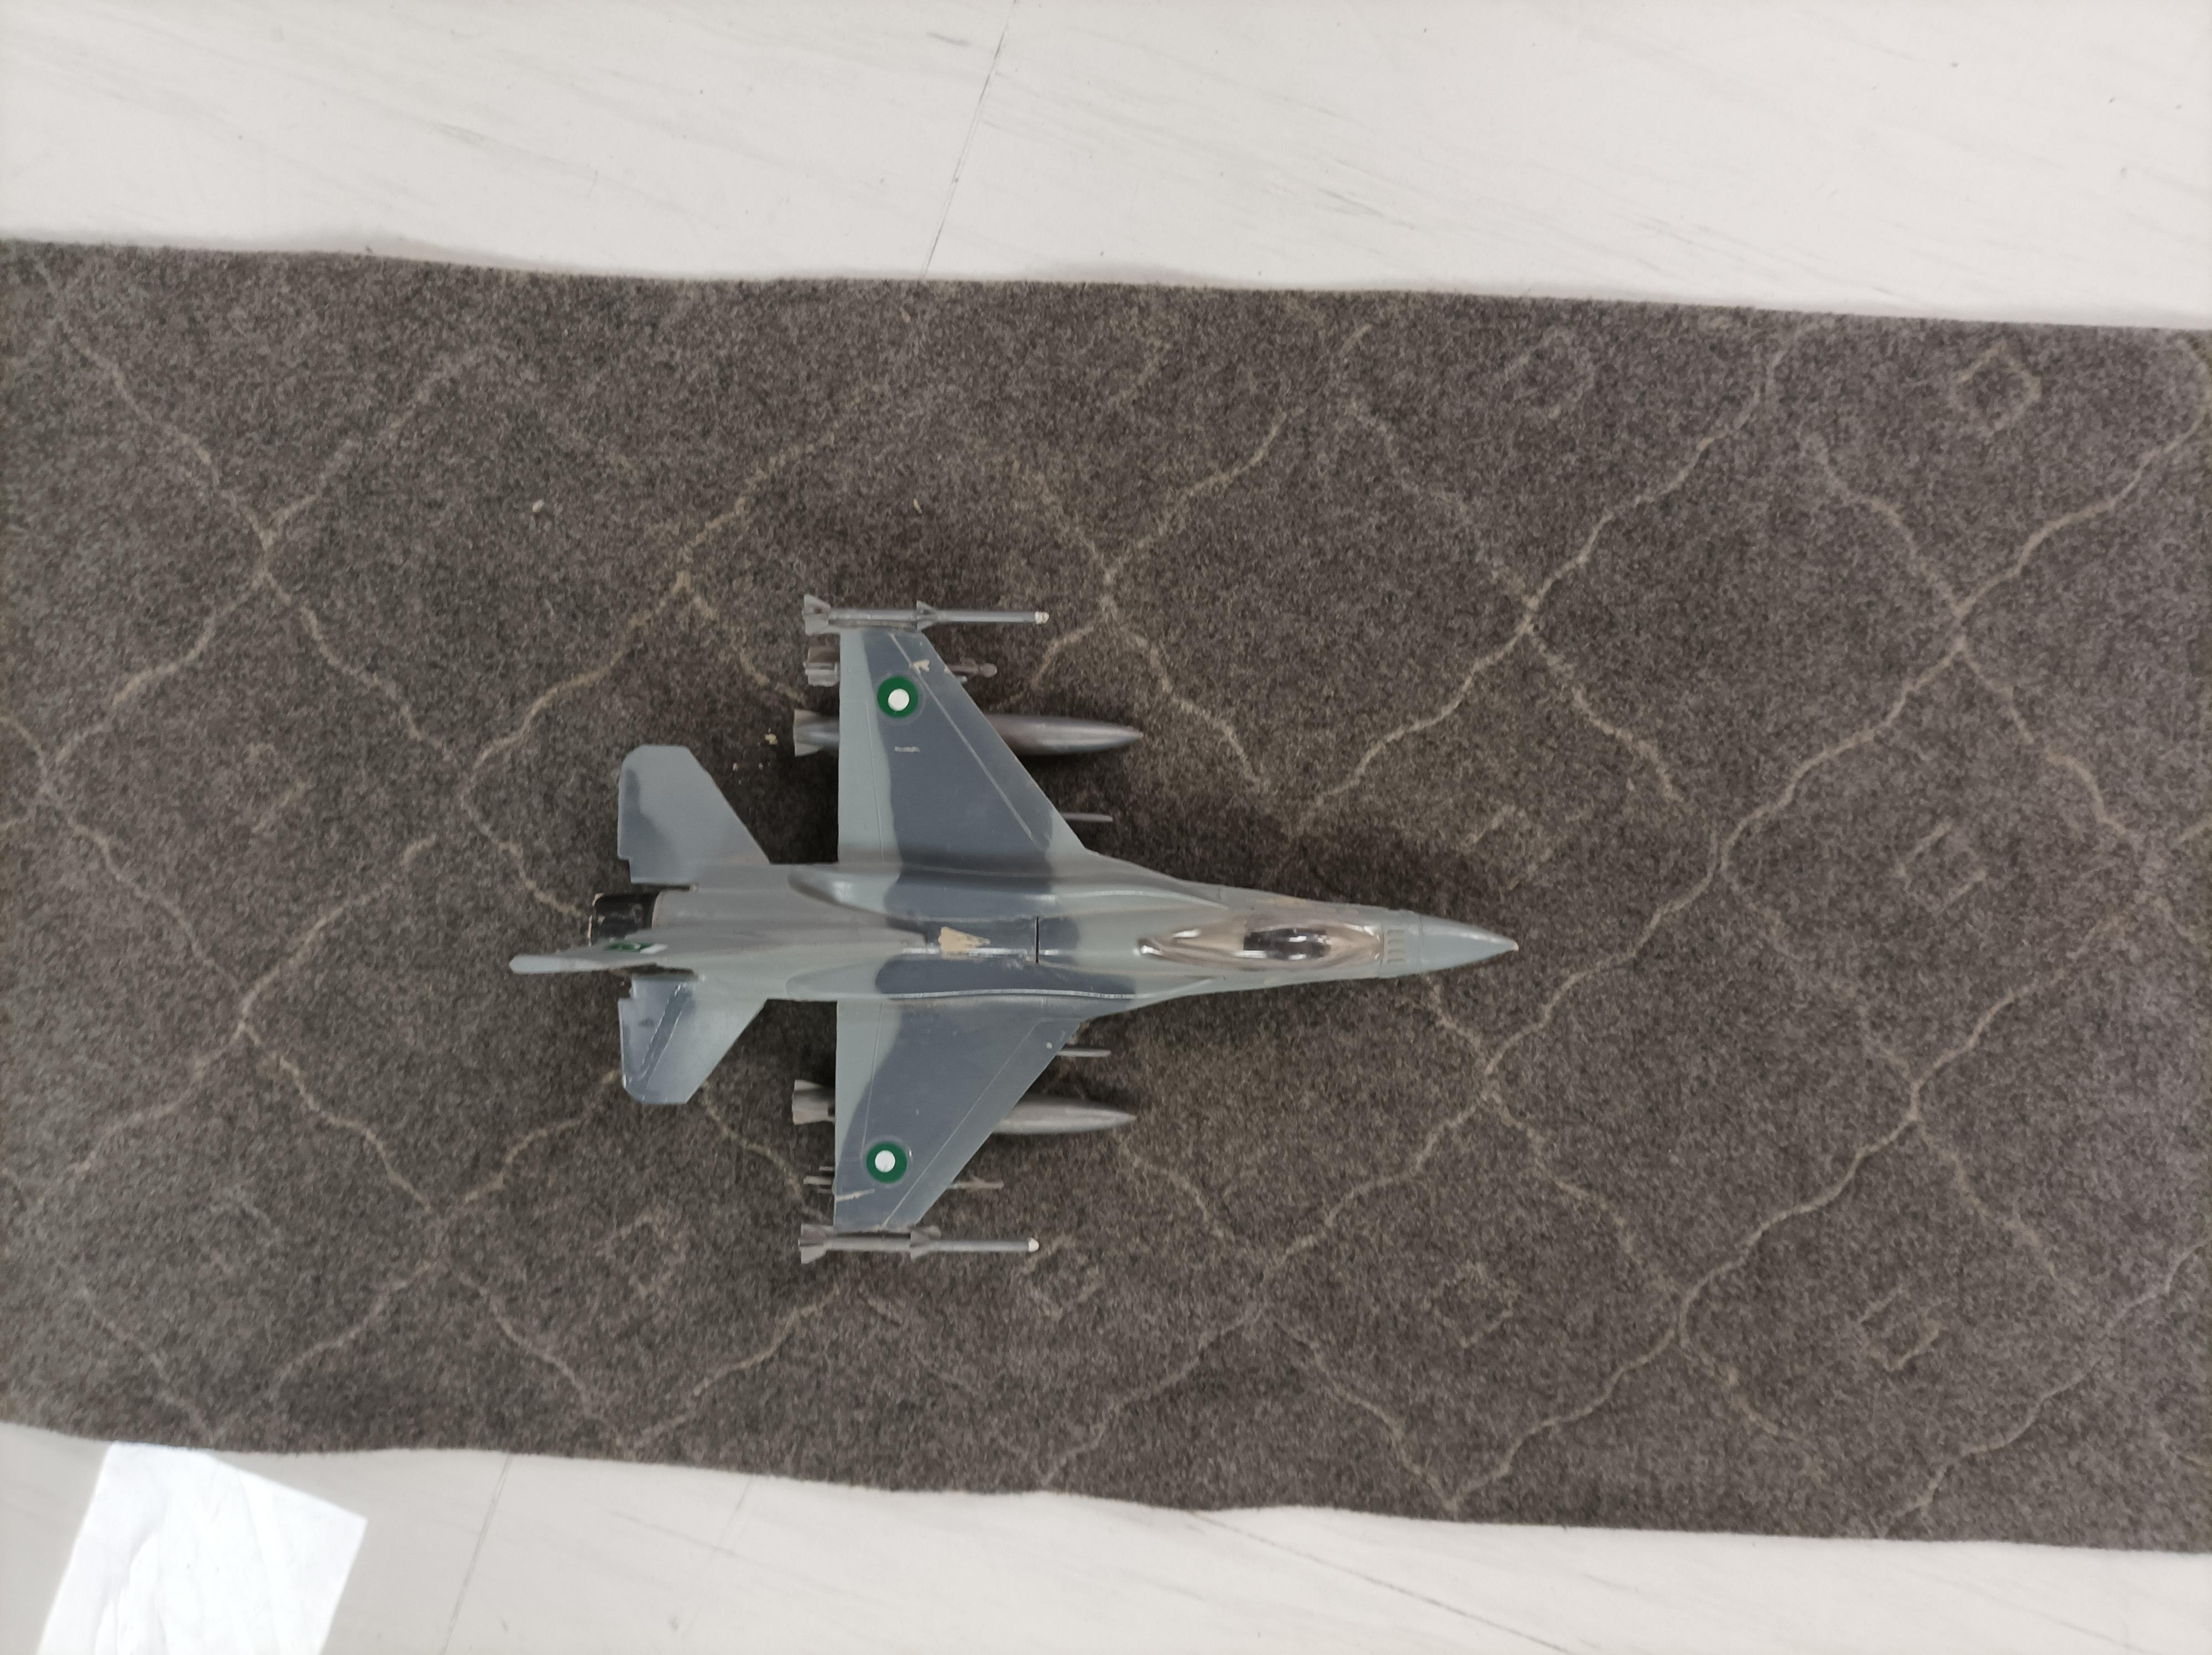Airplane: (481, 553, 1552, 1302)
